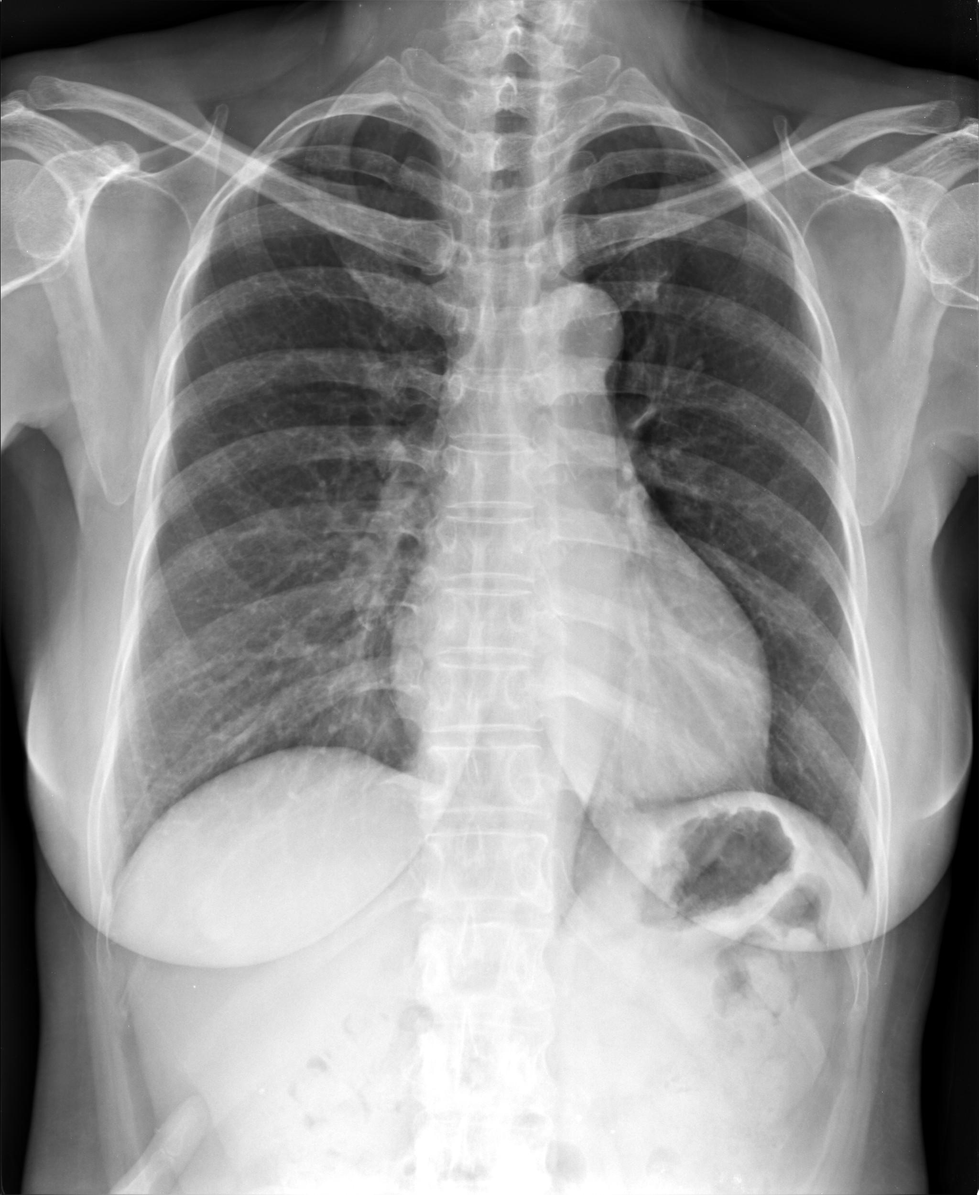Pleural thickening: (684, 128, 735, 183), (254, 120, 323, 160), (848, 866, 884, 910)
